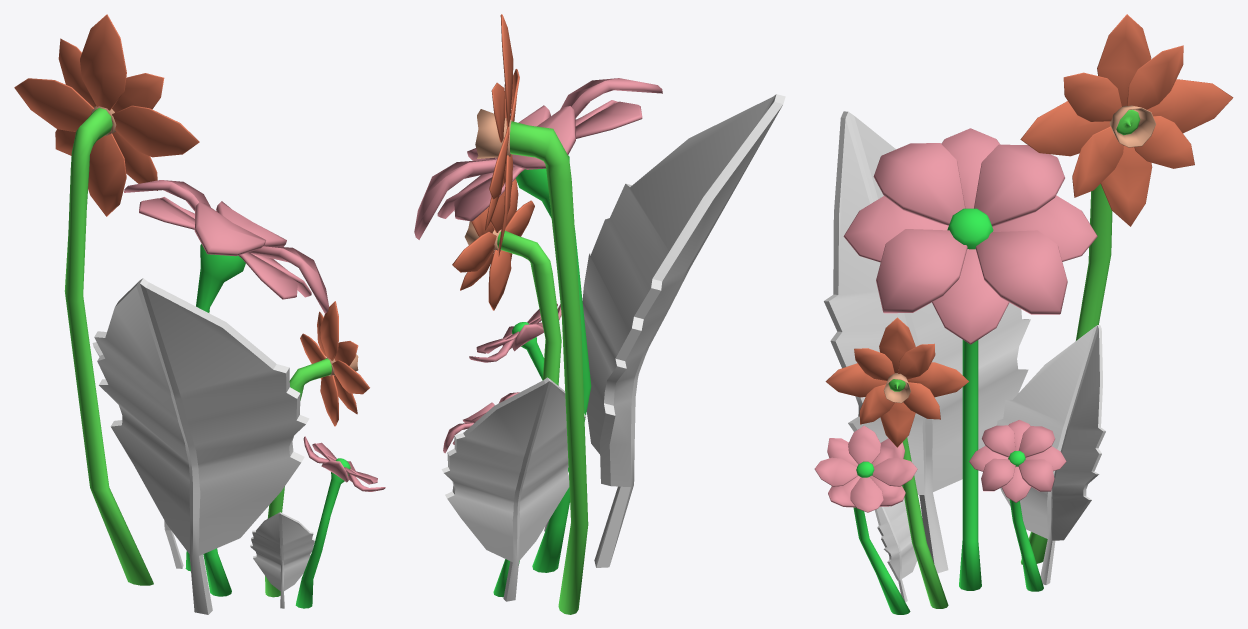
File: WildflowerPerk.fbx
The picture shows the model from 3 angles, left to right: view 1: azimuth 30°, elevation 25°; view 2: azimuth 150°, elevation 25°; view 3: azimuth 270°, elevation 25°; orthographic projection. The views are drawn at different scales.
Visible parts, largest first — view 1: Plane, Cylinder.001, Cylinder.004, Plane.001, Plane.008, Cylinder, Plane.002, Plane.007, Cylinder.002, Plane.006; view 2: Plane, Plane.003, Cylinder.004, Plane.001, Cylinder, Plane.002, Cylinder.001, Cylinder.002, Plane.006, Cylinder.005, Plane.004, Plane.007; view 3: Plane.001, Plane, Cylinder.001, Plane.003, Cylinder, Plane.006, Plane.002, Plane.004, Cylinder.004, Cylinder.002, Plane.008, Plane.007 (+2 smaller).
Boxes of the visible parts, box(x1,y1,x2,y2) form: Plane: box(94, 278, 309, 614); Cylinder.001: box(14, 14, 199, 216); Cylinder.004: box(64, 108, 153, 585); Plane.001: box(124, 180, 328, 313); Plane.008: box(250, 512, 314, 608); Cylinder: box(300, 301, 369, 426); Plane.002: box(196, 244, 245, 596); Plane.007: box(295, 458, 350, 608); Cylinder.002: box(265, 358, 331, 597); Plane.006: box(303, 436, 385, 491); Plane: box(582, 94, 785, 567); Plane.003: box(441, 377, 585, 601); Cylinder.004: box(510, 121, 588, 614); Plane.001: box(414, 78, 662, 239); Cylinder: box(452, 178, 534, 310); Plane.002: box(516, 155, 591, 572); Cylinder.001: box(484, 14, 519, 256); Cylinder.002: box(497, 230, 561, 385); Plane.006: box(469, 303, 561, 362); Cylinder.005: box(475, 109, 511, 158); Plane.004: box(443, 392, 519, 453); Plane.007: box(512, 322, 543, 379); Plane.001: box(843, 128, 1097, 344); Plane: box(824, 111, 1030, 573); Cylinder.001: box(1020, 14, 1233, 226); Plane.003: box(997, 325, 1105, 584); Cylinder: box(825, 317, 968, 447); Plane.006: box(814, 425, 917, 512); Plane.002: box(947, 208, 993, 590); Plane.004: box(969, 420, 1066, 502); Cylinder.004: box(1021, 109, 1140, 564); Cylinder.002: box(888, 379, 948, 608); Plane.008: box(874, 499, 917, 602); Plane.007: box(853, 461, 910, 614).
Size of the model in its own units: 102 by 206 by 142.
